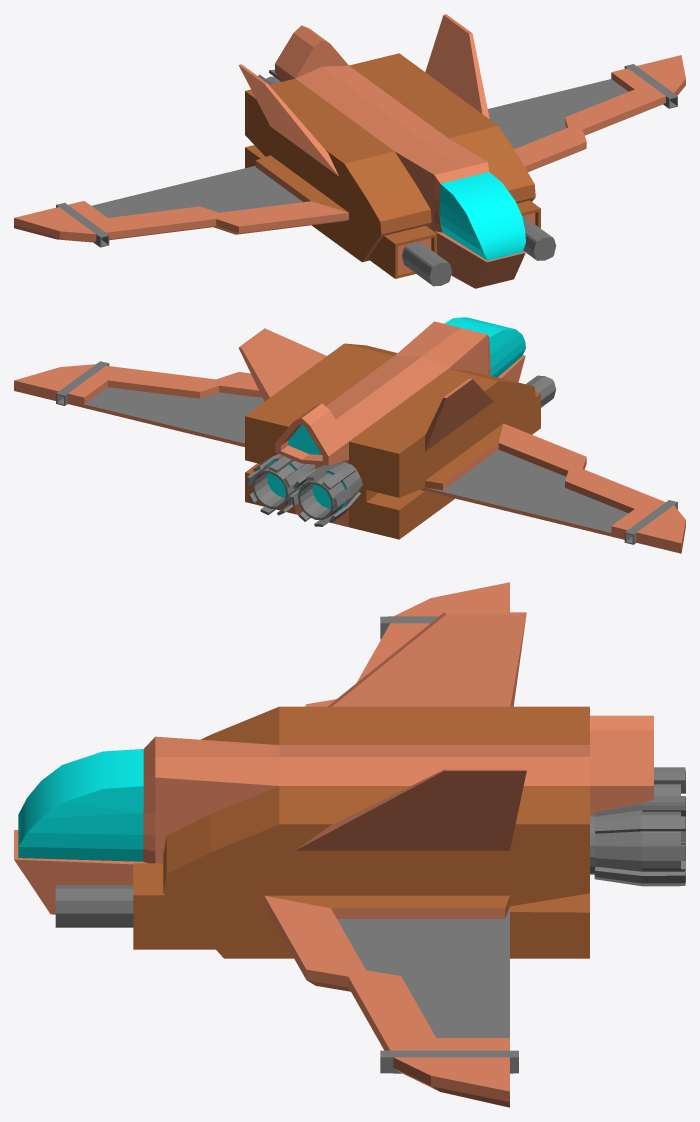
The model's file is Fighter4.fbx.
3 views of the same model, one above another, from view 1: azimuth 30°, elevation 25°; view 2: azimuth 150°, elevation 25°; view 3: azimuth 270°, elevation 25° (orthographic). The views are drawn at different scales.
Parts seen in each view (by area): view 1: Cube.002; view 2: Cube.002; view 3: Cube.002.
Part boxes in pixels (bbox=[...]): Cube.002: bbox=[14, 14, 685, 288]; Cube.002: bbox=[14, 317, 685, 553]; Cube.002: bbox=[14, 582, 685, 1107].
Bounding box in the file's own units: 1245 × 237 × 694.
